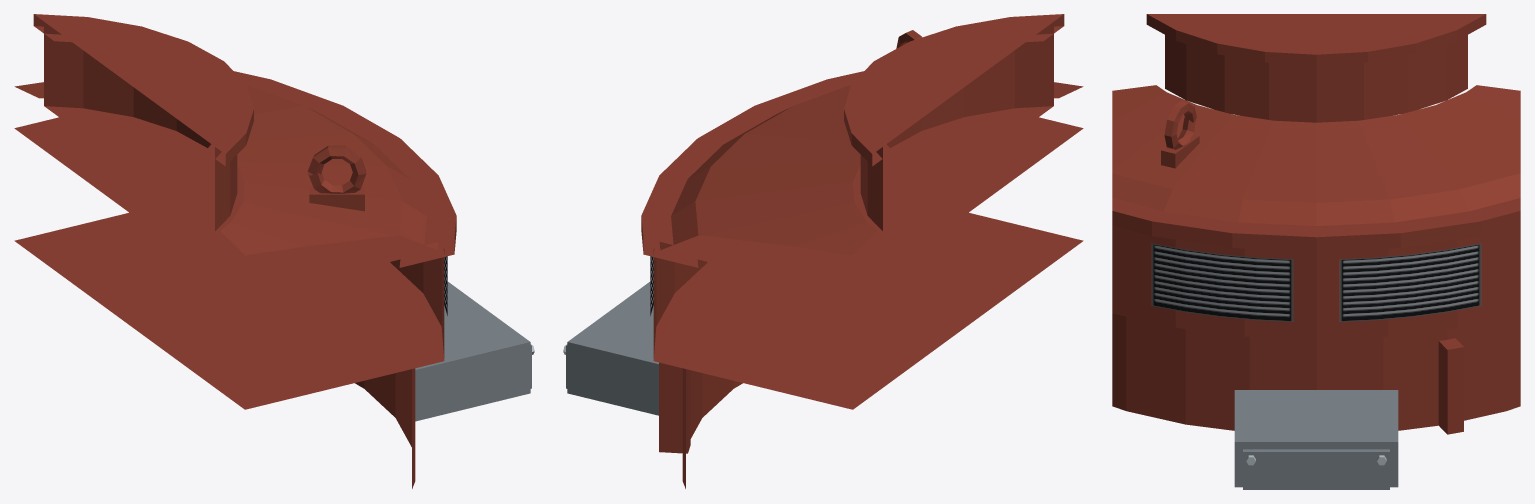
File: cell_96.obj
The picture shows the model from 3 angles, left to right: view 1: azimuth 30°, elevation 25°; view 2: azimuth 150°, elevation 25°; view 3: azimuth 270°, elevation 25°; orthographic projection. The views are drawn at different scales.
Size of the model in its own units: 0.914 by 0.8648 by 1.
